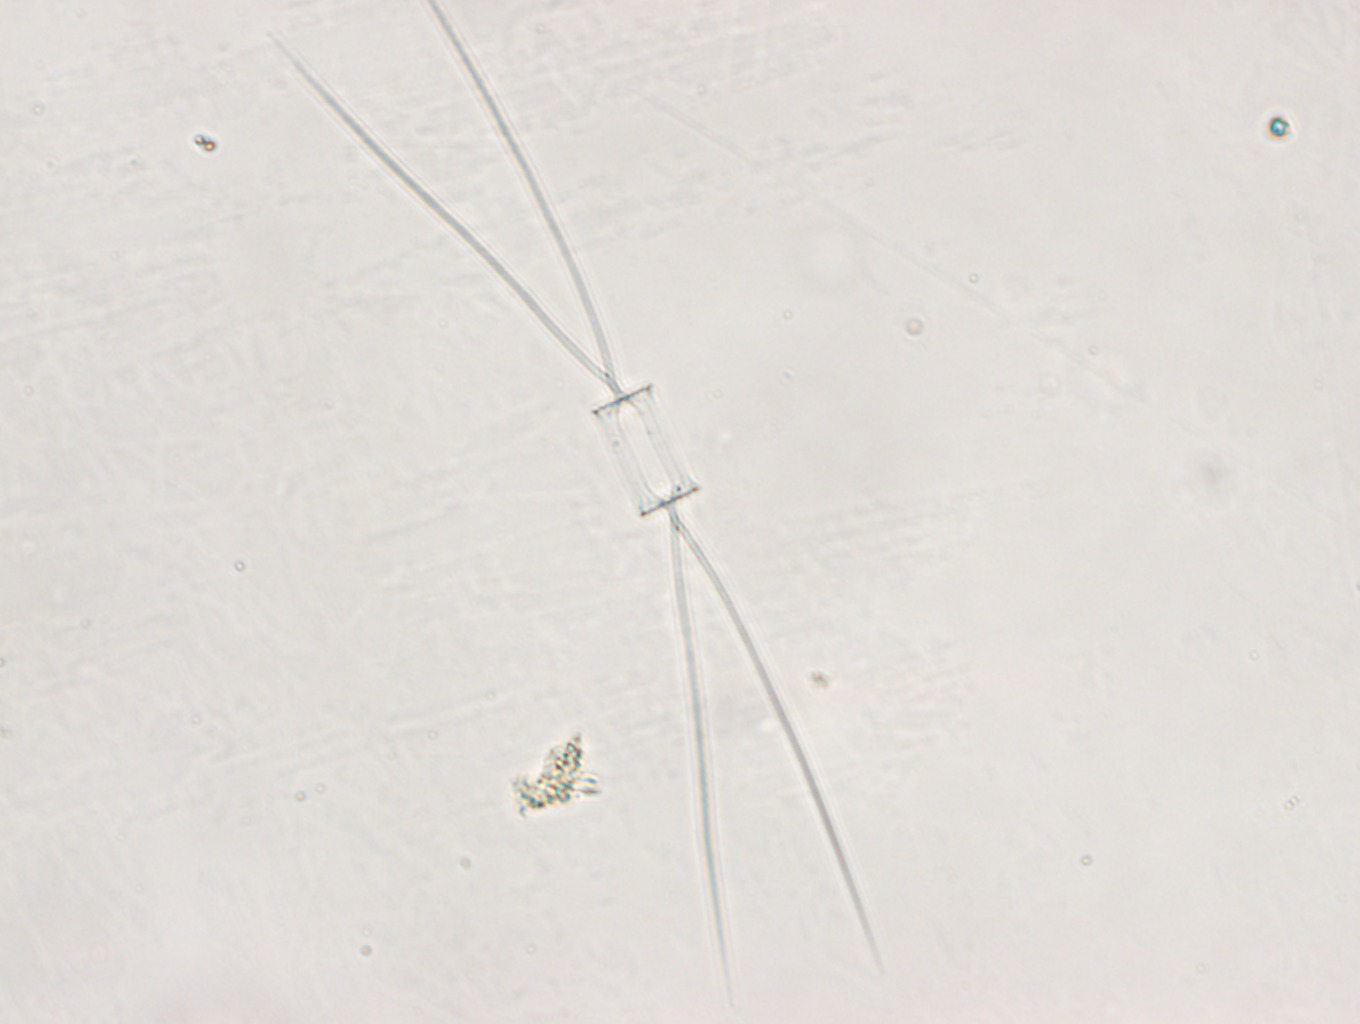chaetoceros: (262, 1, 894, 1005)
